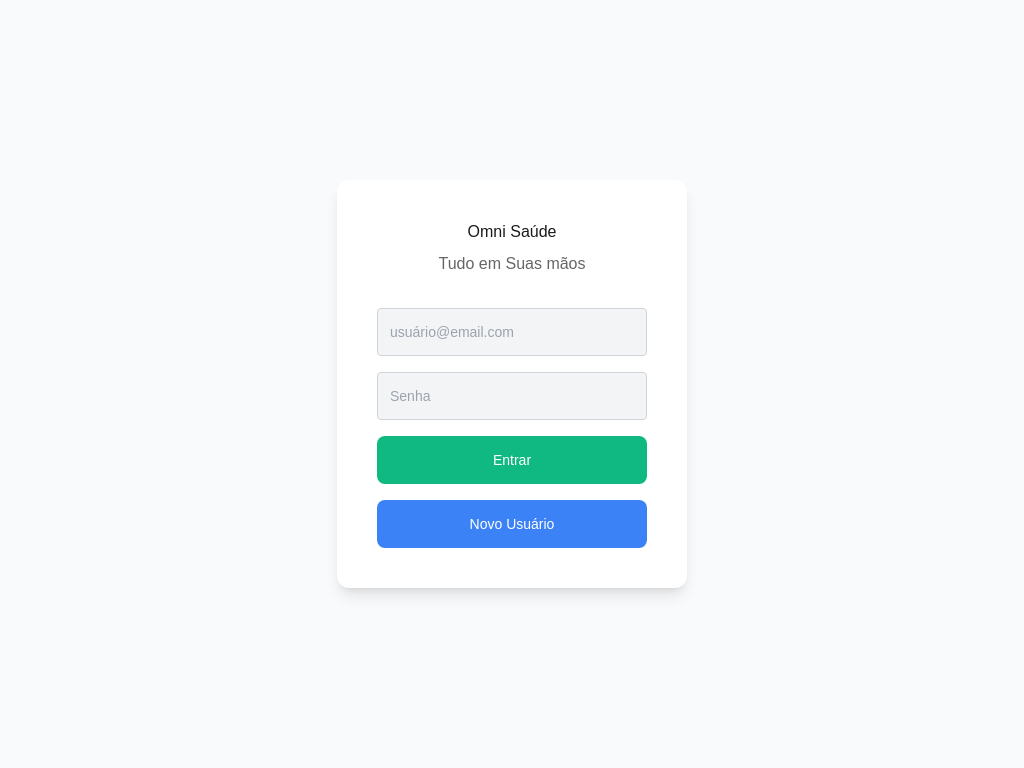
Test: App › handles logout from dashboard
Step 1. Type "test@example.com" into the field with placeholder "usuário@email.com" → (512, 332), box [377,308,647,356]
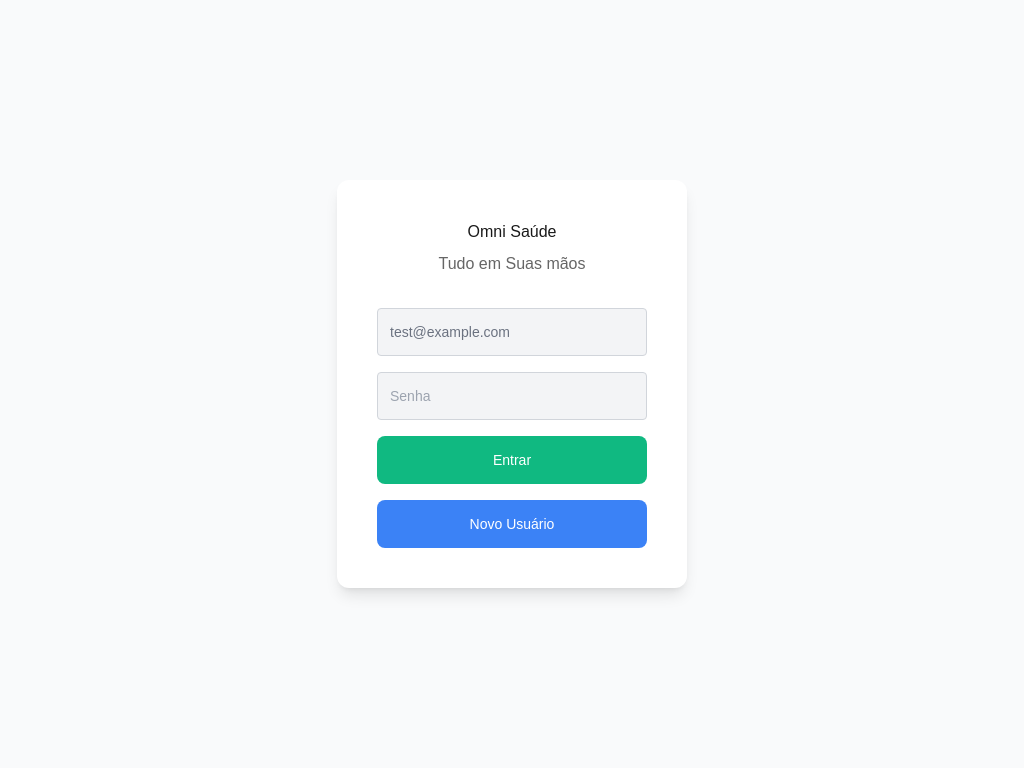
Step 2. Type "password123" into the password field with placeholder "Senha" → (512, 396), box [377,372,647,420]
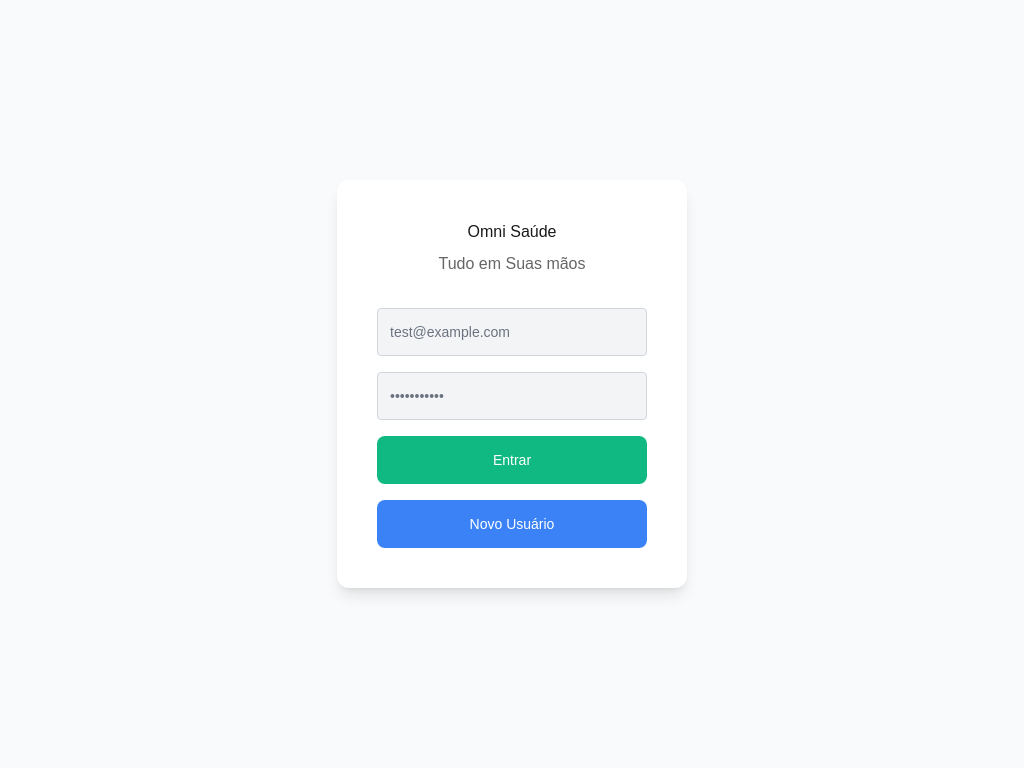
Step 3. Click the button "Entrar" → (512, 460), box [377,436,647,484]
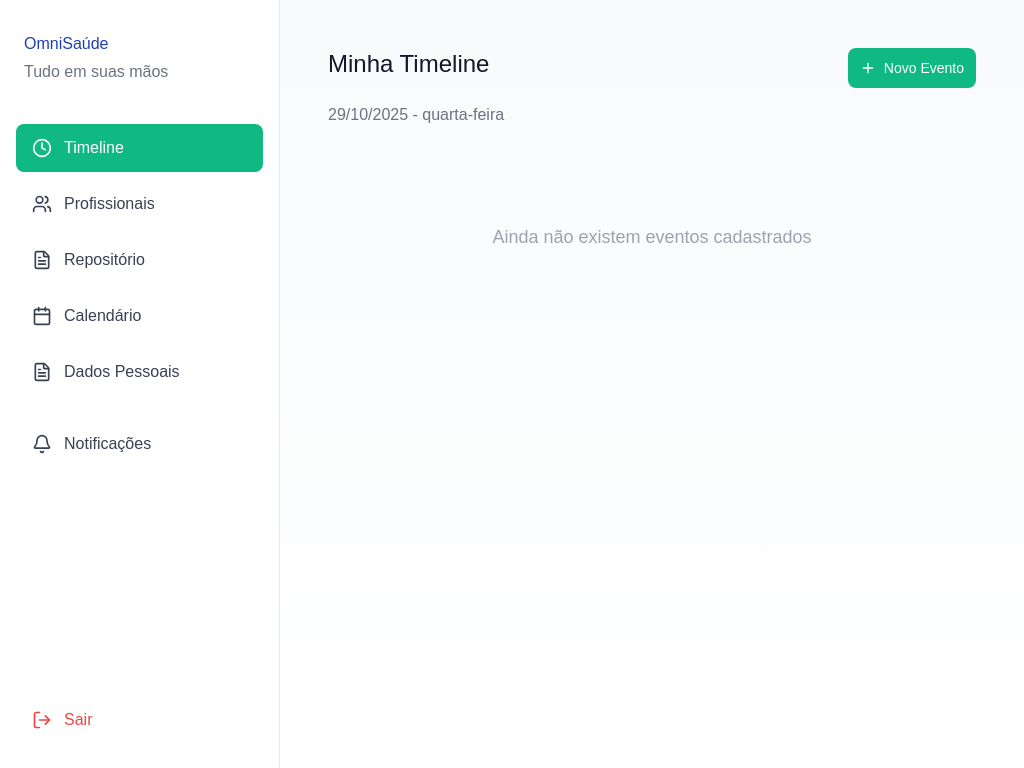
Check: the heading "Minha Timeline" is shown, box [328,48,489,80]
Note: Simula clique no botão de sair do Sidebar
Step 4. Click the button "Sair" → (140, 720), box [16,696,263,744]
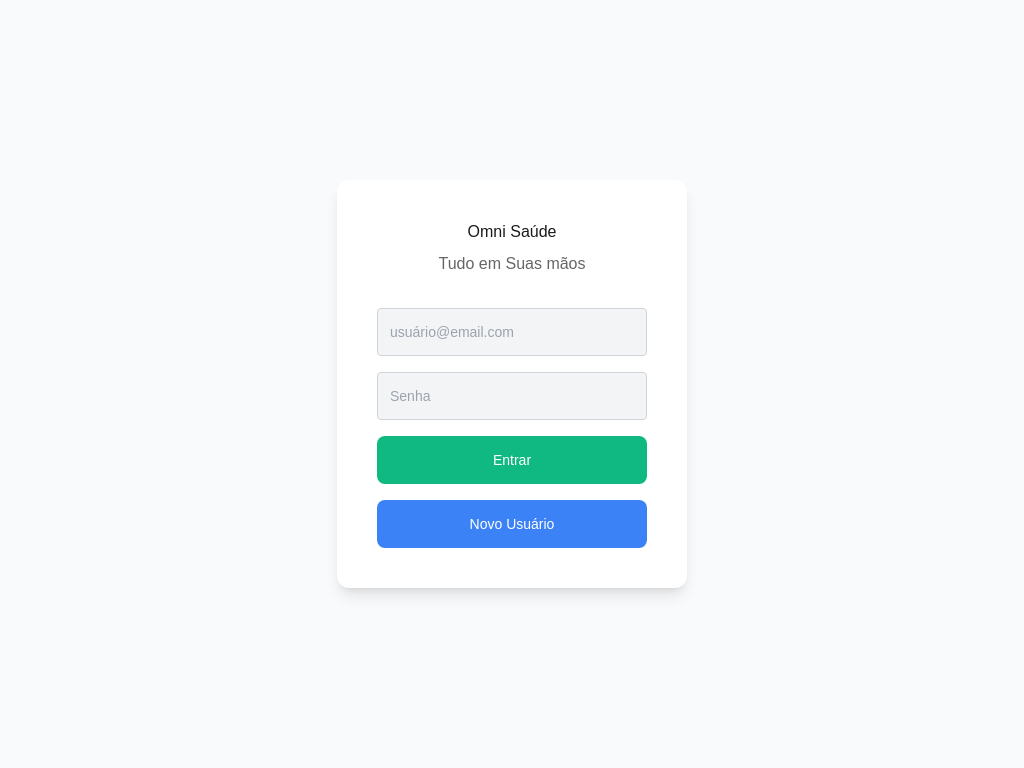
Check: the heading "Omni Saúde" is shown, box [468,223,556,240]
